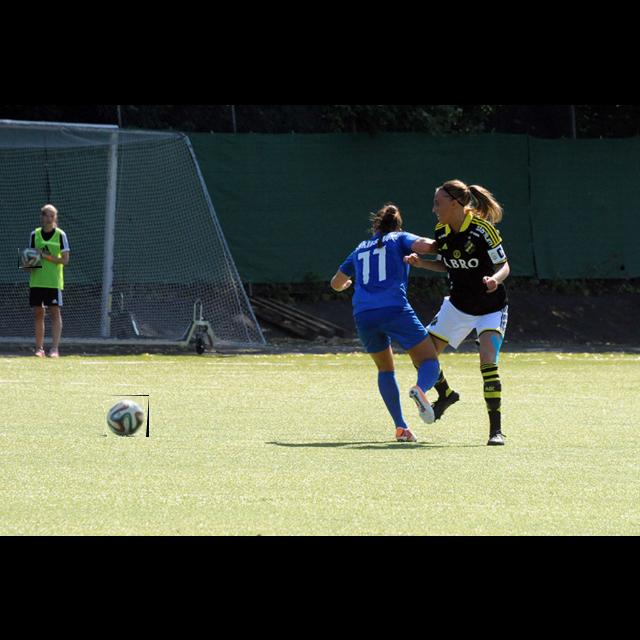Football: (105, 395, 149, 437), (18, 248, 42, 268)
